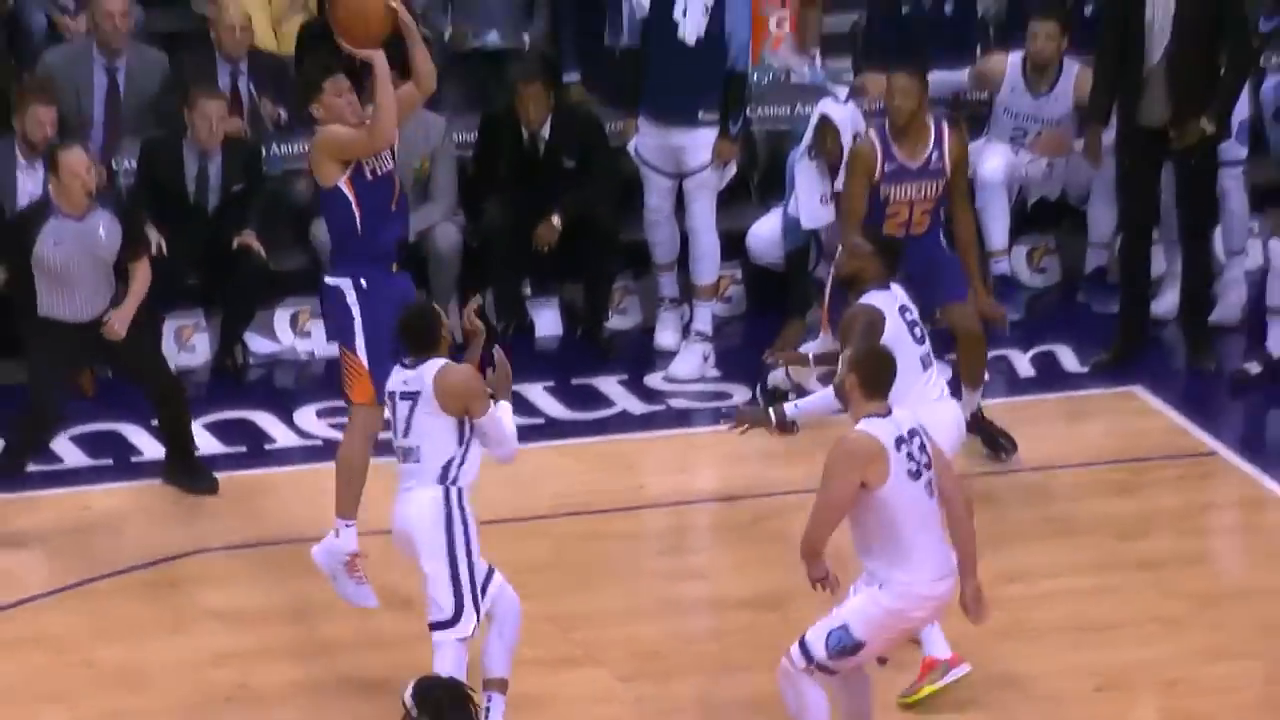ball: (333, 1, 404, 52)
